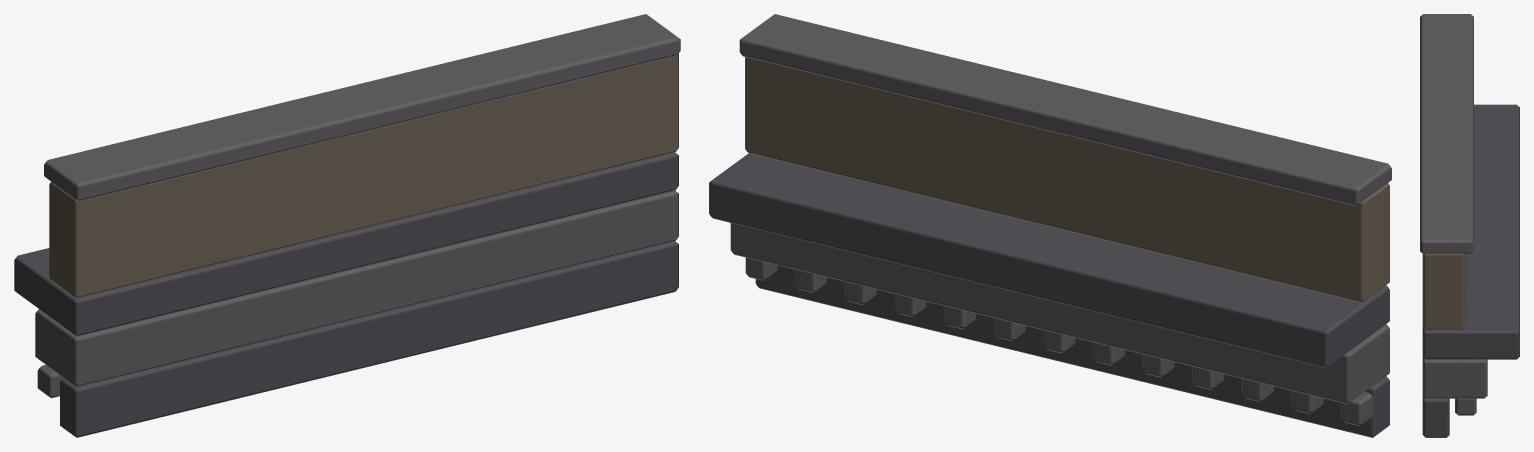
Rendered from SM_ENV_Cornija.fbx.
3 renders of one model, left to right at view 1: azimuth 30°, elevation 25°; view 2: azimuth 150°, elevation 25°; view 3: azimuth 270°, elevation 25°, orthographic. The views are drawn at different scales.
Visible parts, largest first — view 1: SM_ENV_Cornija; view 2: SM_ENV_Cornija; view 3: SM_ENV_Cornija.
Boxes of the visible parts, <box> form: SM_ENV_Cornija: <box>14,14,680,437</box>; SM_ENV_Cornija: <box>709,14,1391,437</box>; SM_ENV_Cornija: <box>1420,14,1519,437</box>.
Bounding box in the file's own units: 2.02 × 0.81 × 0.37.
